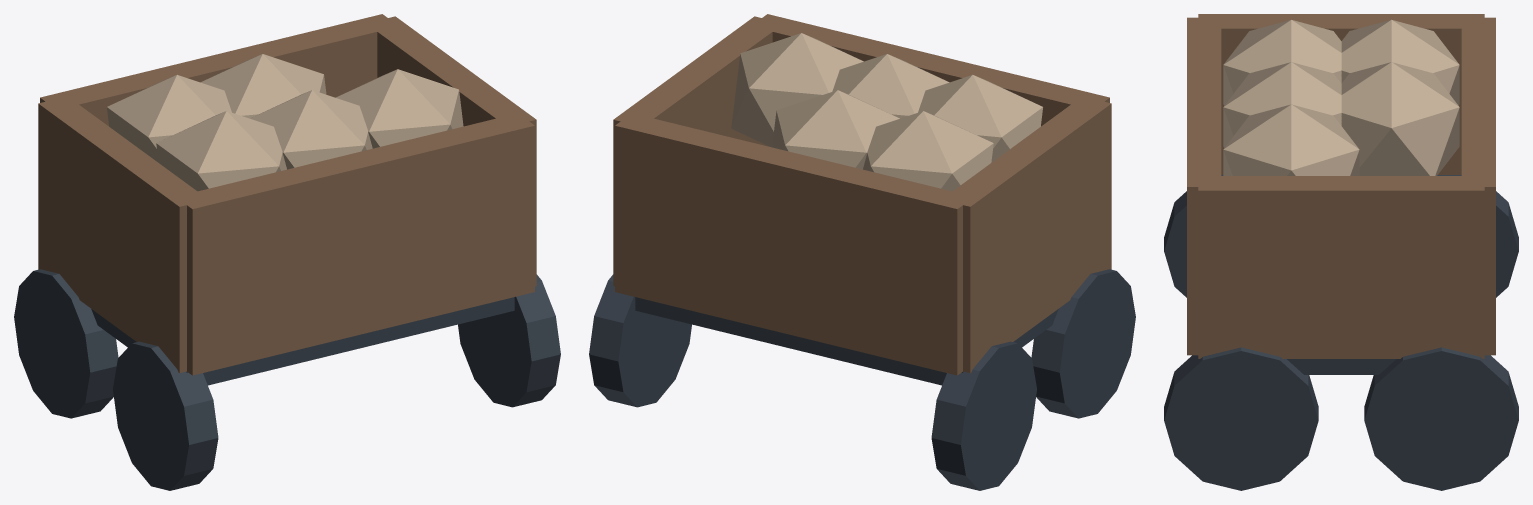
Rendered from var_mine_cart.glb.
3 views of the same model, side by side, from view 1: azimuth 30°, elevation 25°; view 2: azimuth 150°, elevation 25°; view 3: azimuth 270°, elevation 25° (orthographic).
Parts seen in each view (by area): view 1: var_mine_cart; view 2: var_mine_cart; view 3: var_mine_cart.
Part boxes in pixels (x1,y1,x2,y2): var_mine_cart: (14,14,560,490); var_mine_cart: (589,14,1135,490); var_mine_cart: (1164,14,1518,490).
Bounding box in the file's own units: 1.52 × 1.3 × 1.24.
